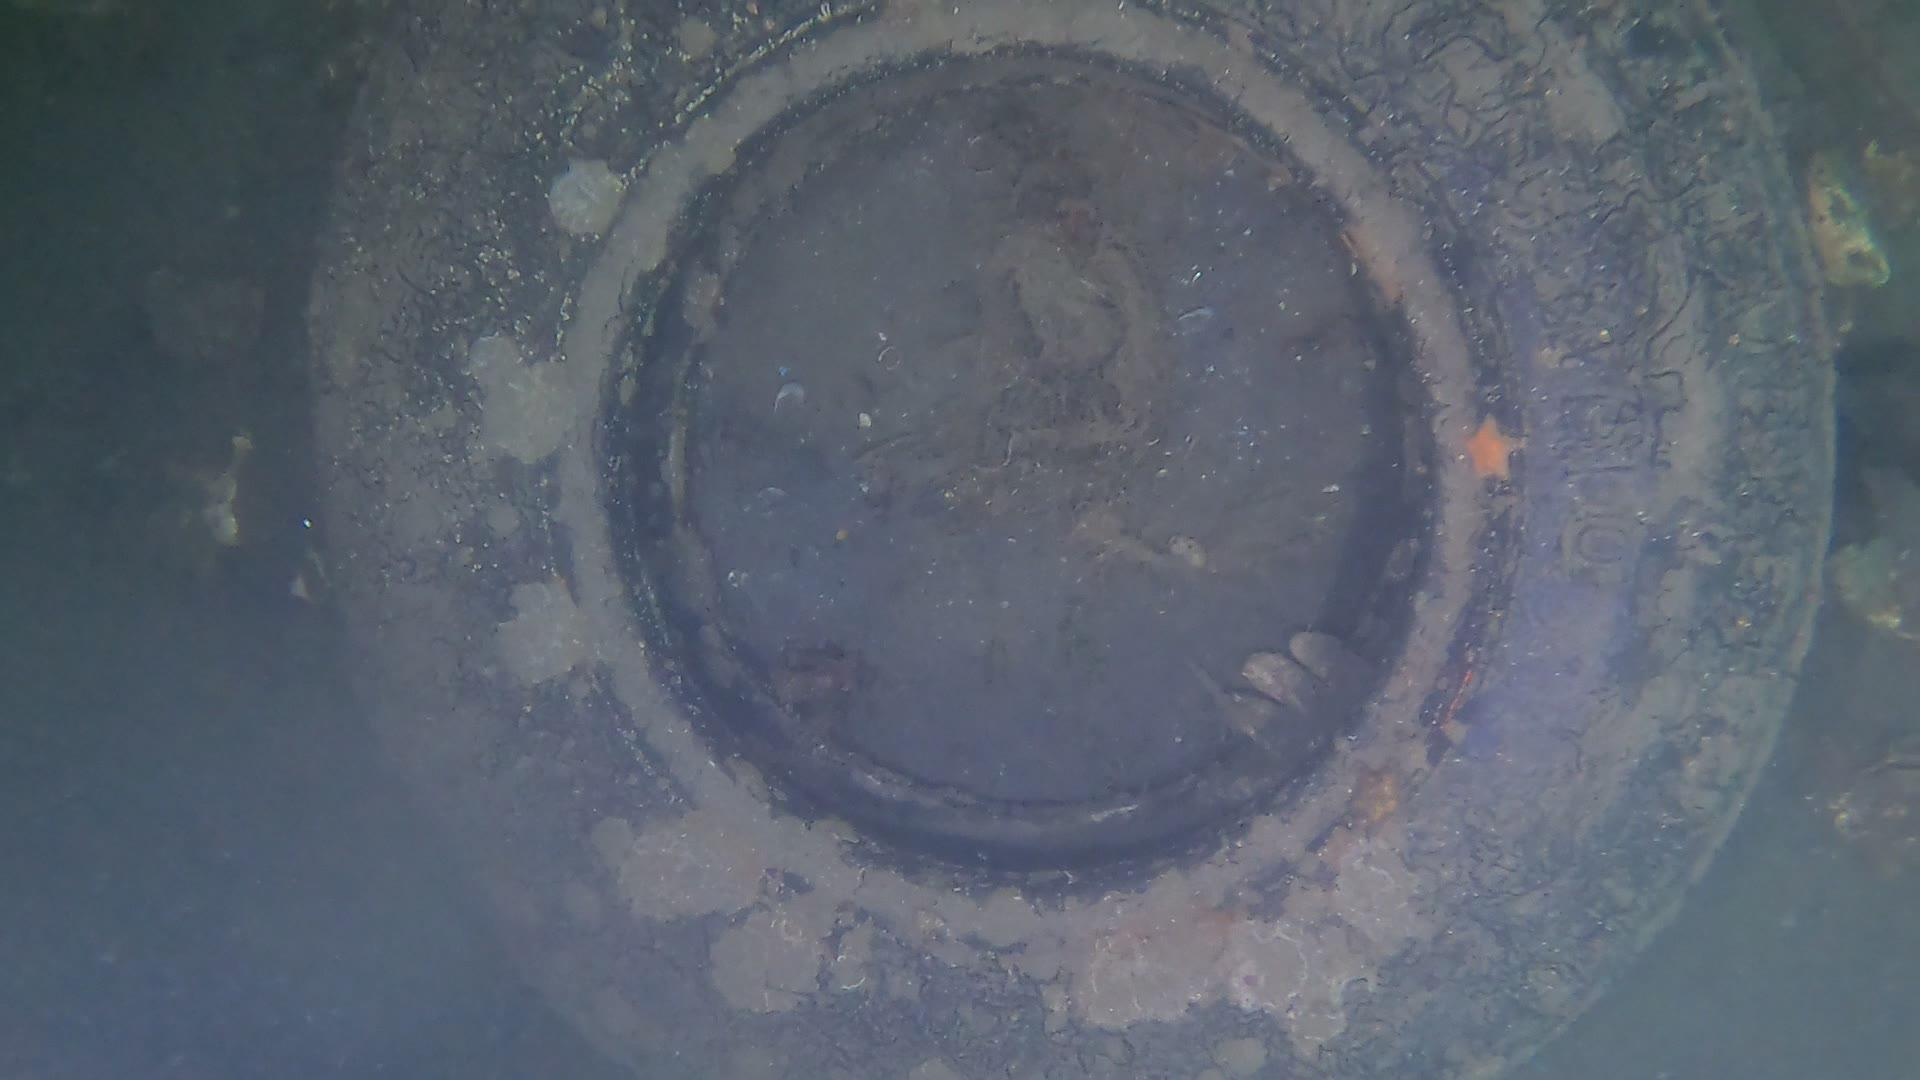tire: (318, 0, 1834, 1080)
